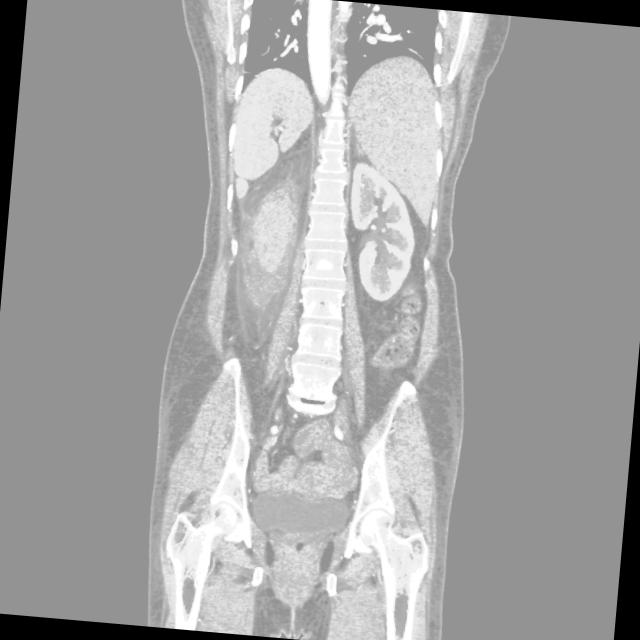TUMOR: (114, 178, 386, 412)
